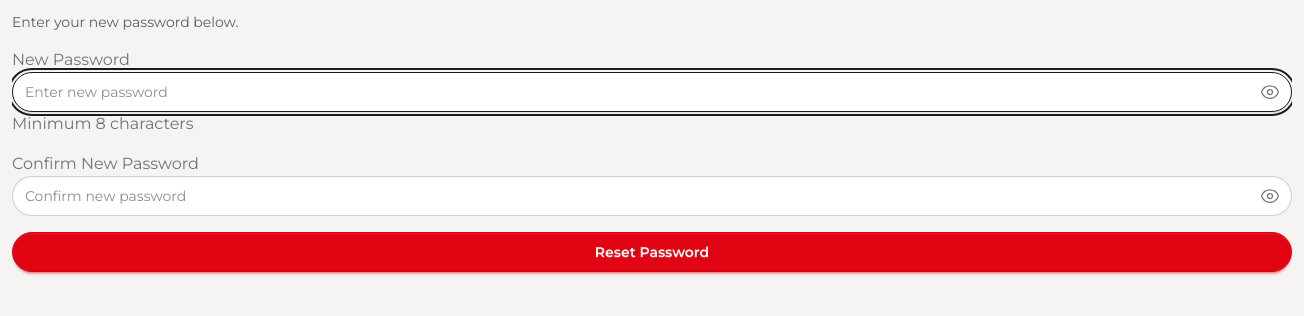
Test: ResetPasswordForm › should show validation error for empty password
Click the button "Reset Password": [652, 252] box 12,232 -> 1292,272
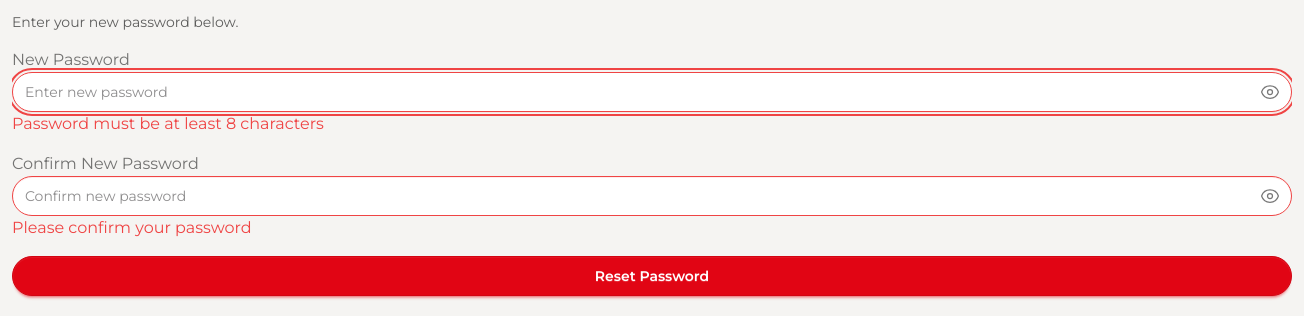
Now the text "Password must be at least 8 characters" is shown, box 12,112 -> 324,136
